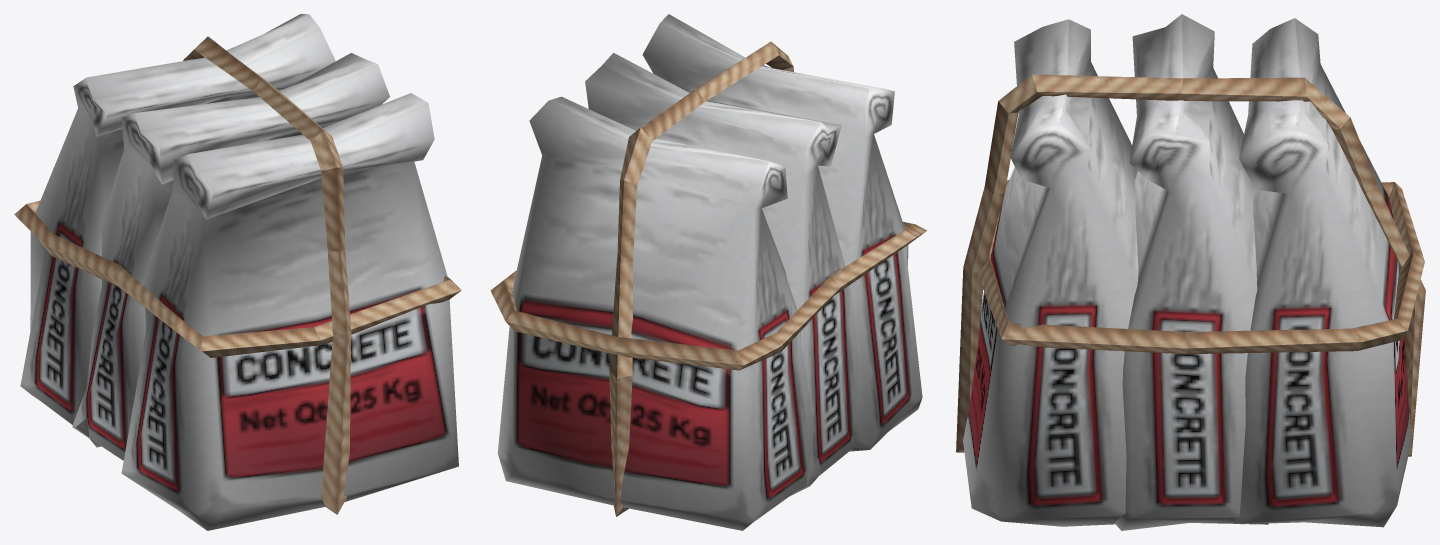
File: stack_of_concrete_powder.fbx
3 views of the same model, side by side, from view 1: azimuth 30°, elevation 25°; view 2: azimuth 150°, elevation 25°; view 3: azimuth 270°, elevation 25° (orthographic). The views are drawn at different scales.
Visible parts, largest first — view 1: BagofConcretePowder; view 2: BagofConcretePowder; view 3: BagofConcretePowder.
Boxes of the visible parts, x1,y1,x2,y2 form: BagofConcretePowder: (14, 14, 461, 530); BagofConcretePowder: (490, 14, 927, 530); BagofConcretePowder: (956, 14, 1425, 530).
Bounding box in the file's own units: 0.2555 × 0.3025 × 0.3222.
